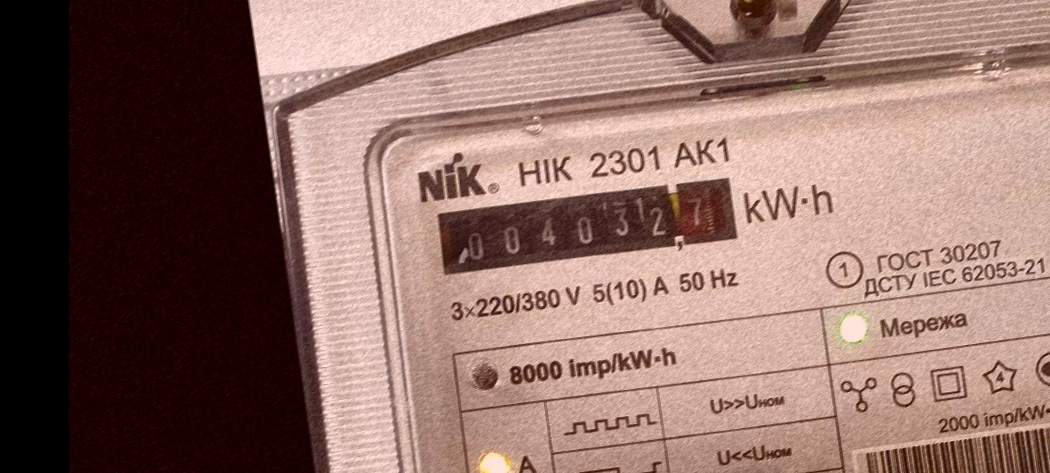0: (501, 224, 526, 260), (466, 229, 489, 265), (575, 214, 598, 249)
2: (648, 205, 671, 241)
3: (612, 207, 634, 241)
4: (538, 216, 562, 255)
7: (688, 196, 710, 231)
screen: (427, 165, 750, 295)
